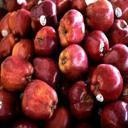apple: (21, 79, 58, 122)
